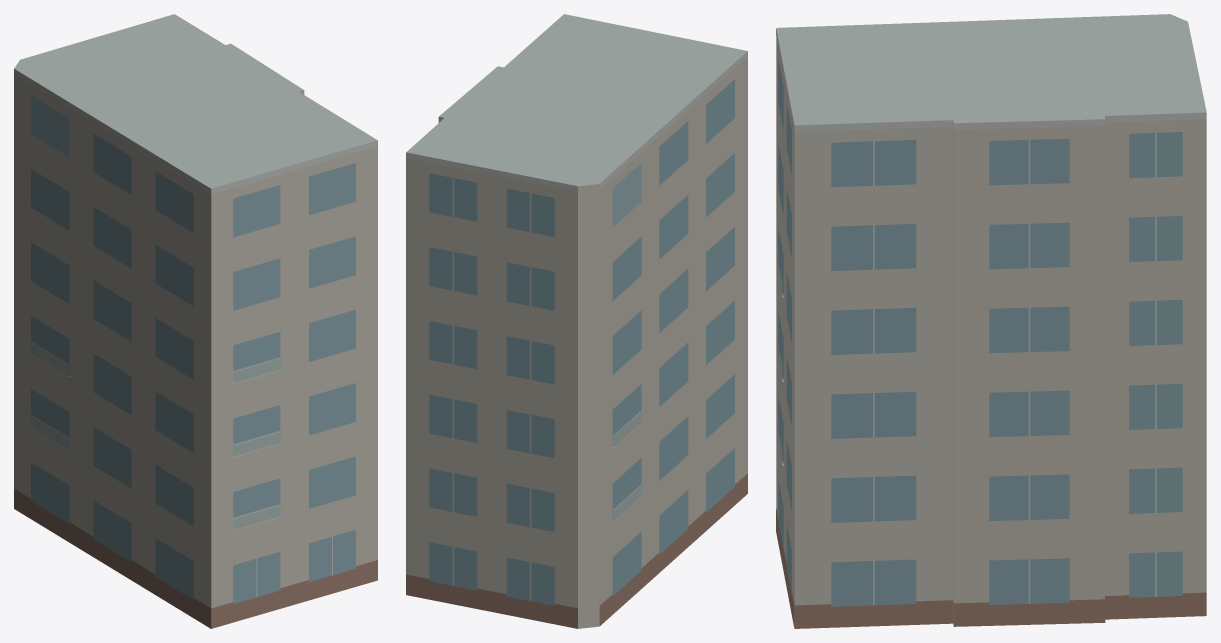
Rendered from survey-upis-32725705.glb.
3 views of the same model, side by side, from view 1: azimuth 30°, elevation 25°; view 2: azimuth 150°, elevation 25°; view 3: azimuth 270°, elevation 25° (orthographic). The views are drawn at different scales.
Parts seen in each view (by area): view 1: survey-upis-32725705.tmp; view 2: survey-upis-32725705.tmp; view 3: survey-upis-32725705.tmp.
Part boxes in pixels (left/top/right/bottom): survey-upis-32725705.tmp: left=14, top=14, right=377, bottom=628; survey-upis-32725705.tmp: left=406, top=14, right=747, bottom=628; survey-upis-32725705.tmp: left=776, top=14, right=1206, bottom=628.
Bounding box in the file's own units: 8.57 × 18.05 × 14.
